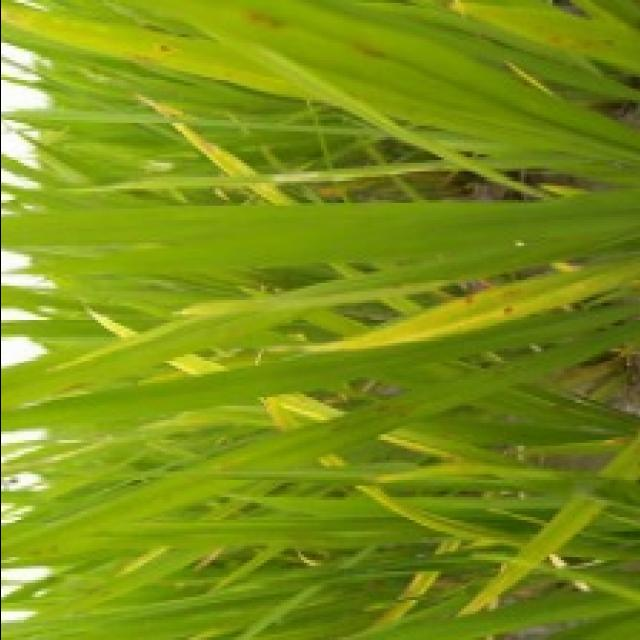Unhealthy: (249, 11, 291, 29), (353, 43, 389, 62), (601, 434, 636, 448), (132, 54, 165, 68), (56, 383, 91, 396), (463, 295, 474, 306), (159, 46, 175, 53), (503, 306, 514, 315)
